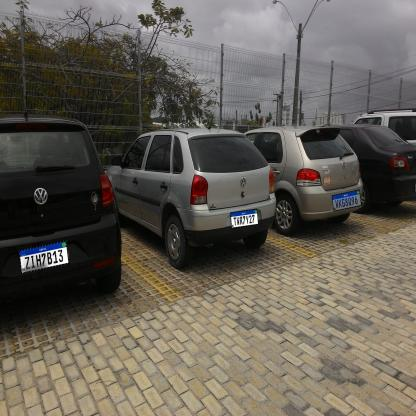PlacaM: (18, 240, 70, 274), (332, 190, 362, 212), (230, 208, 259, 228)
